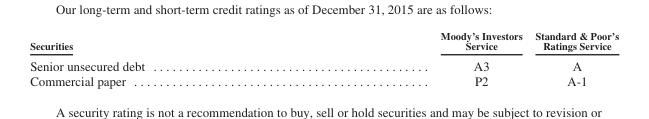table: (29, 29, 618, 88)
table column: (29, 29, 291, 88), (291, 29, 528, 88), (528, 29, 618, 88)
table column header: (29, 29, 618, 40)
table row: (29, 54, 618, 73), (29, 73, 618, 88), (29, 40, 618, 54), (29, 29, 618, 40)
